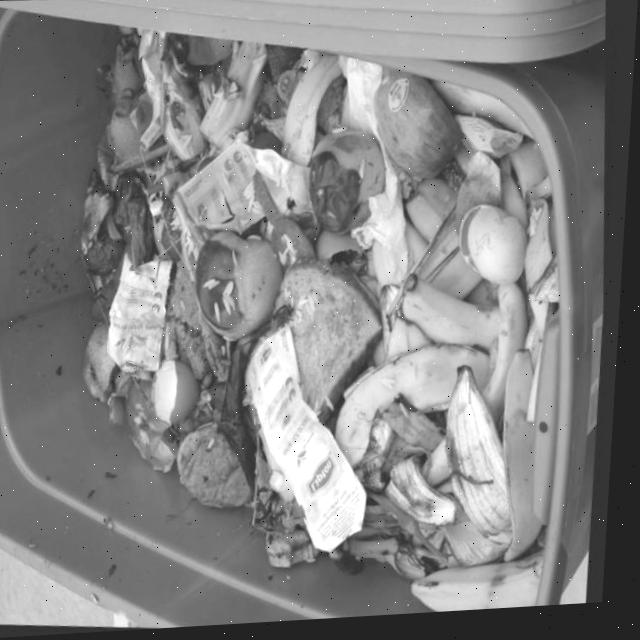Plastic_Bag: (248, 306, 300, 349)
